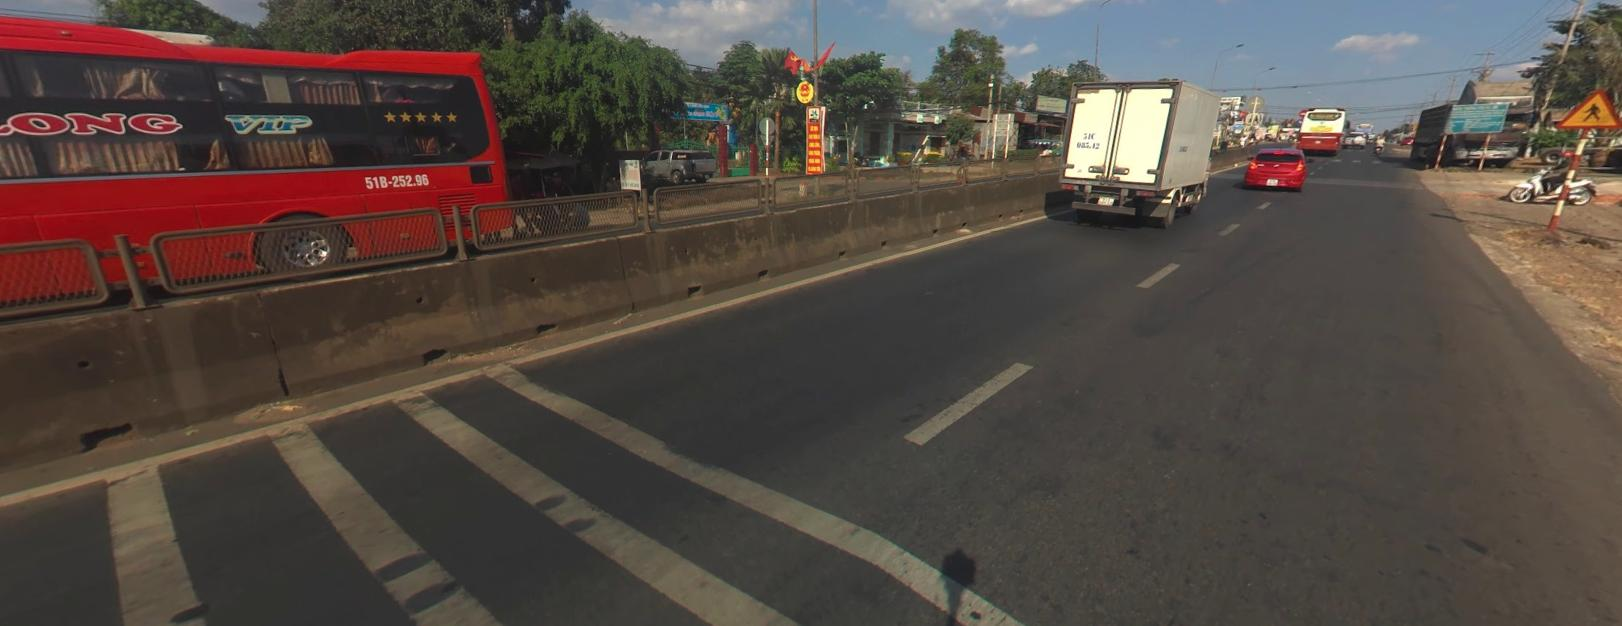Cam nguoc chieu: (1298, 108, 1309, 116)
Hieu lenh: (1296, 118, 1304, 124)
Nguy hiem: (1556, 87, 1621, 128)
